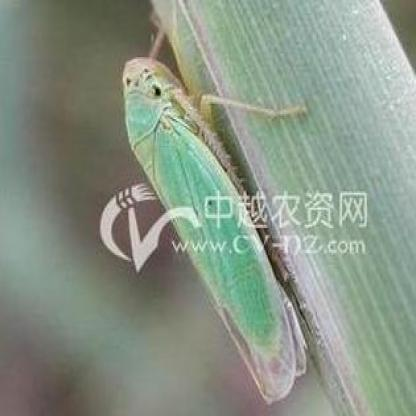Green-Leafhopper: (121, 15, 314, 402)
